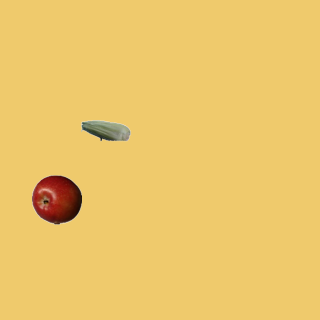Apple Braeburn: (31, 174, 81, 224)
Corn Husk: (80, 105, 130, 155)
